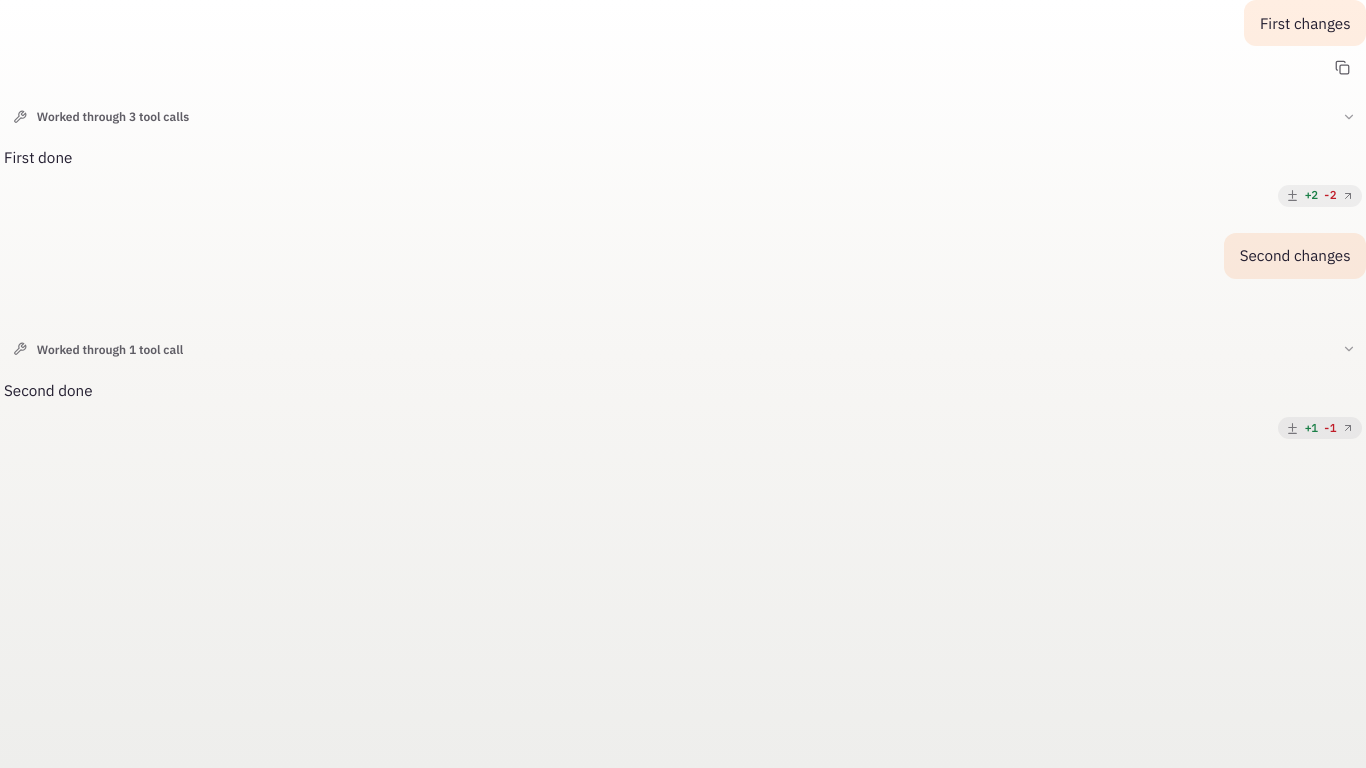
Test: ActiveSessionView turn diffs › shows an explicit empty state when only change receipts are available
Click the button named "Turn changes: 1 line added, 1 line deleted" at (1320, 428), box [1278,417,1362,439]
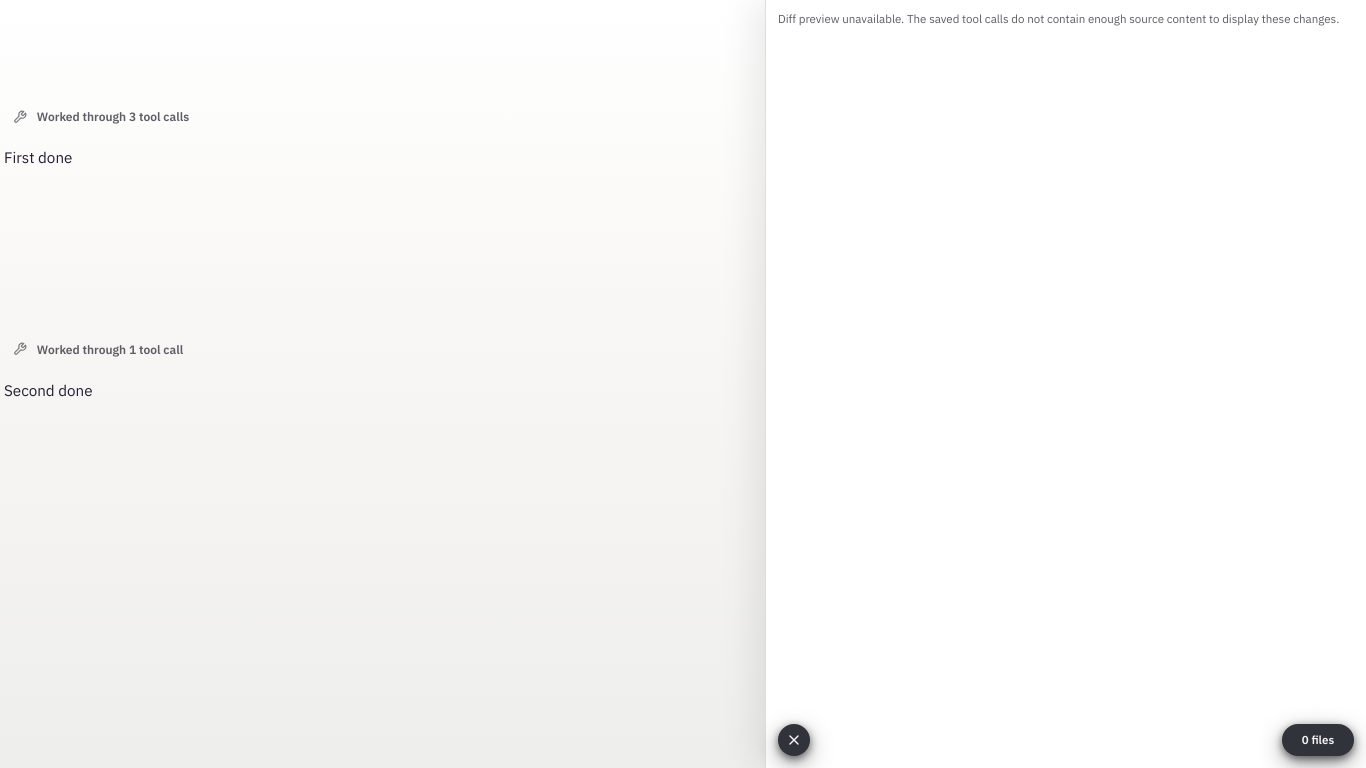
Now the text "Diff preview unavailable." is shown, box [778,11,1339,26]
